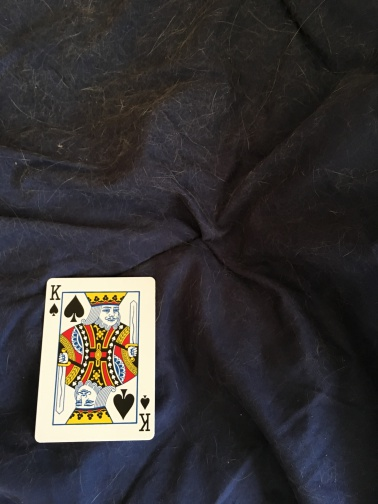king: (33, 274, 157, 443)
